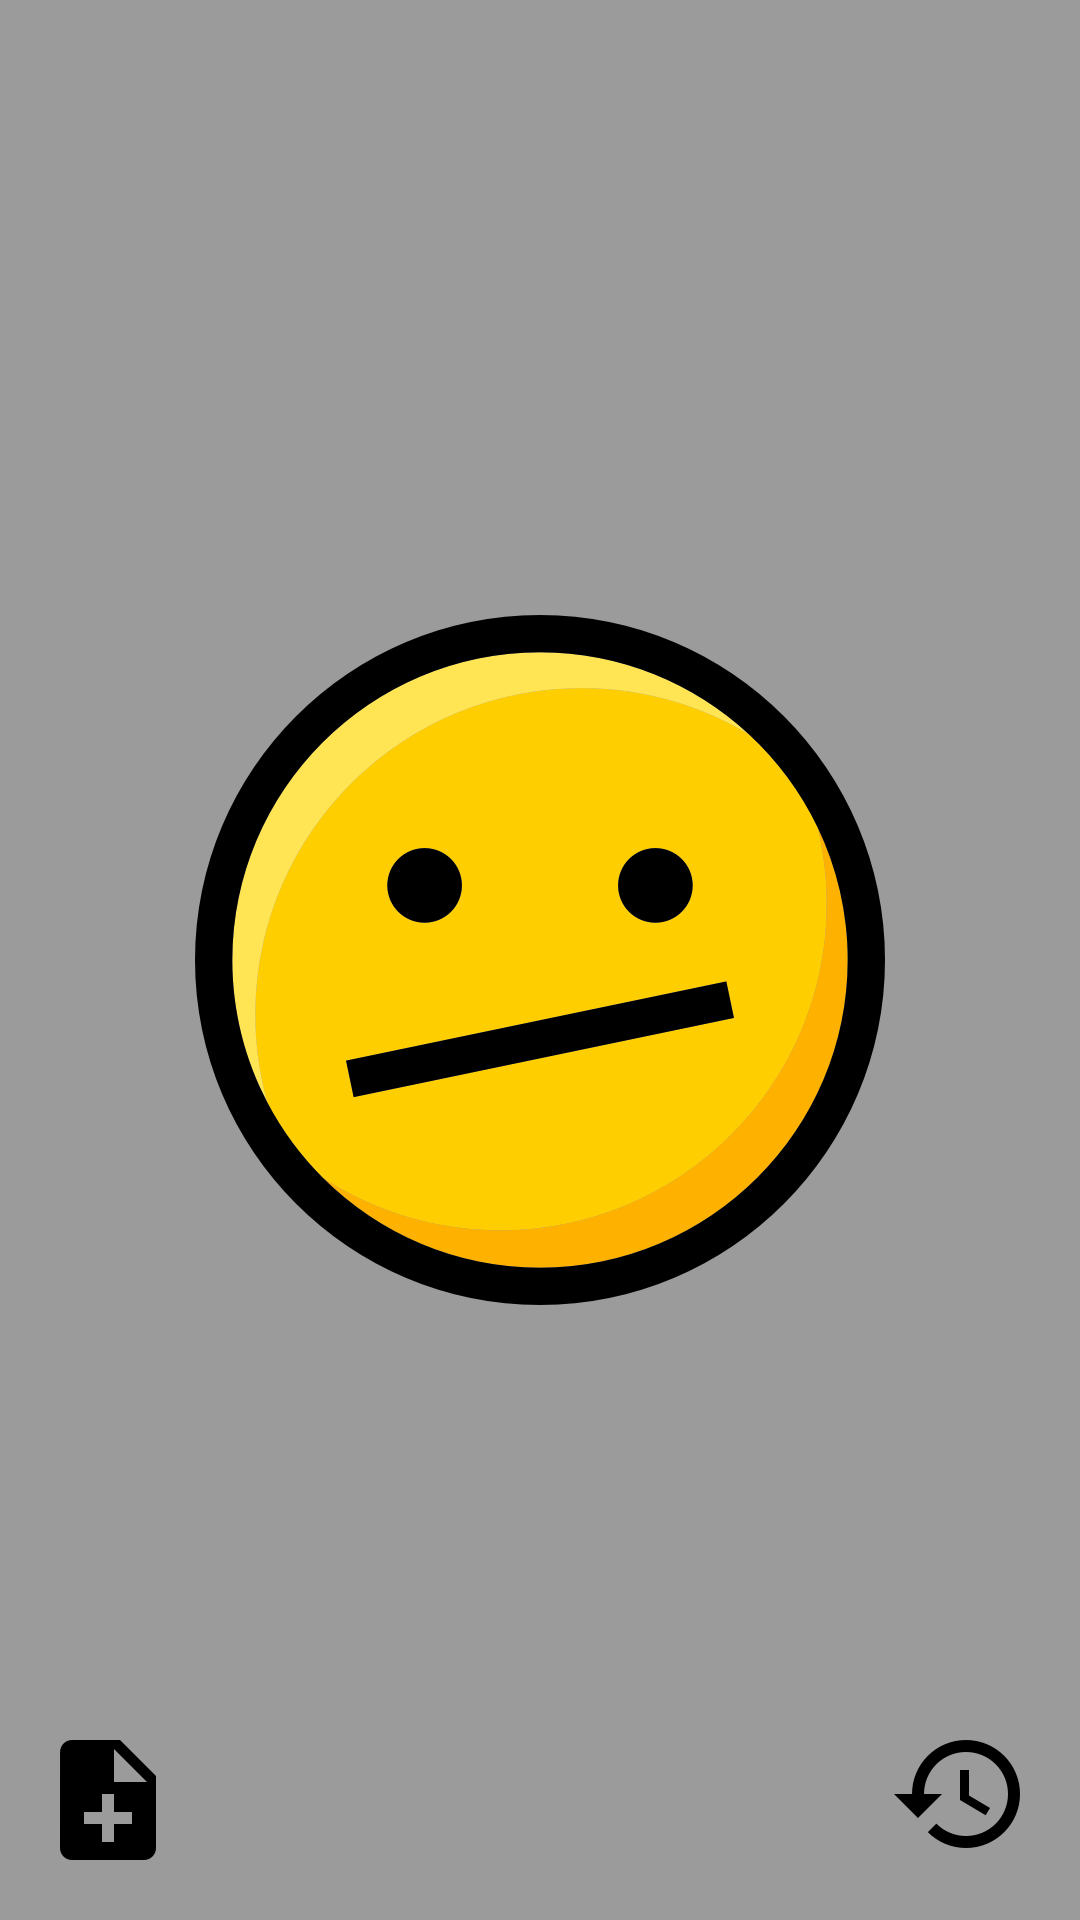

Named icons in this screenshot (1080*1920) and their bounding boxes, (x1, y1, x2, y2):
Get your mood history on past 7 day !: (894, 1740, 1020, 1848)
Tell why you feel like this today !: (60, 1740, 156, 1860)
